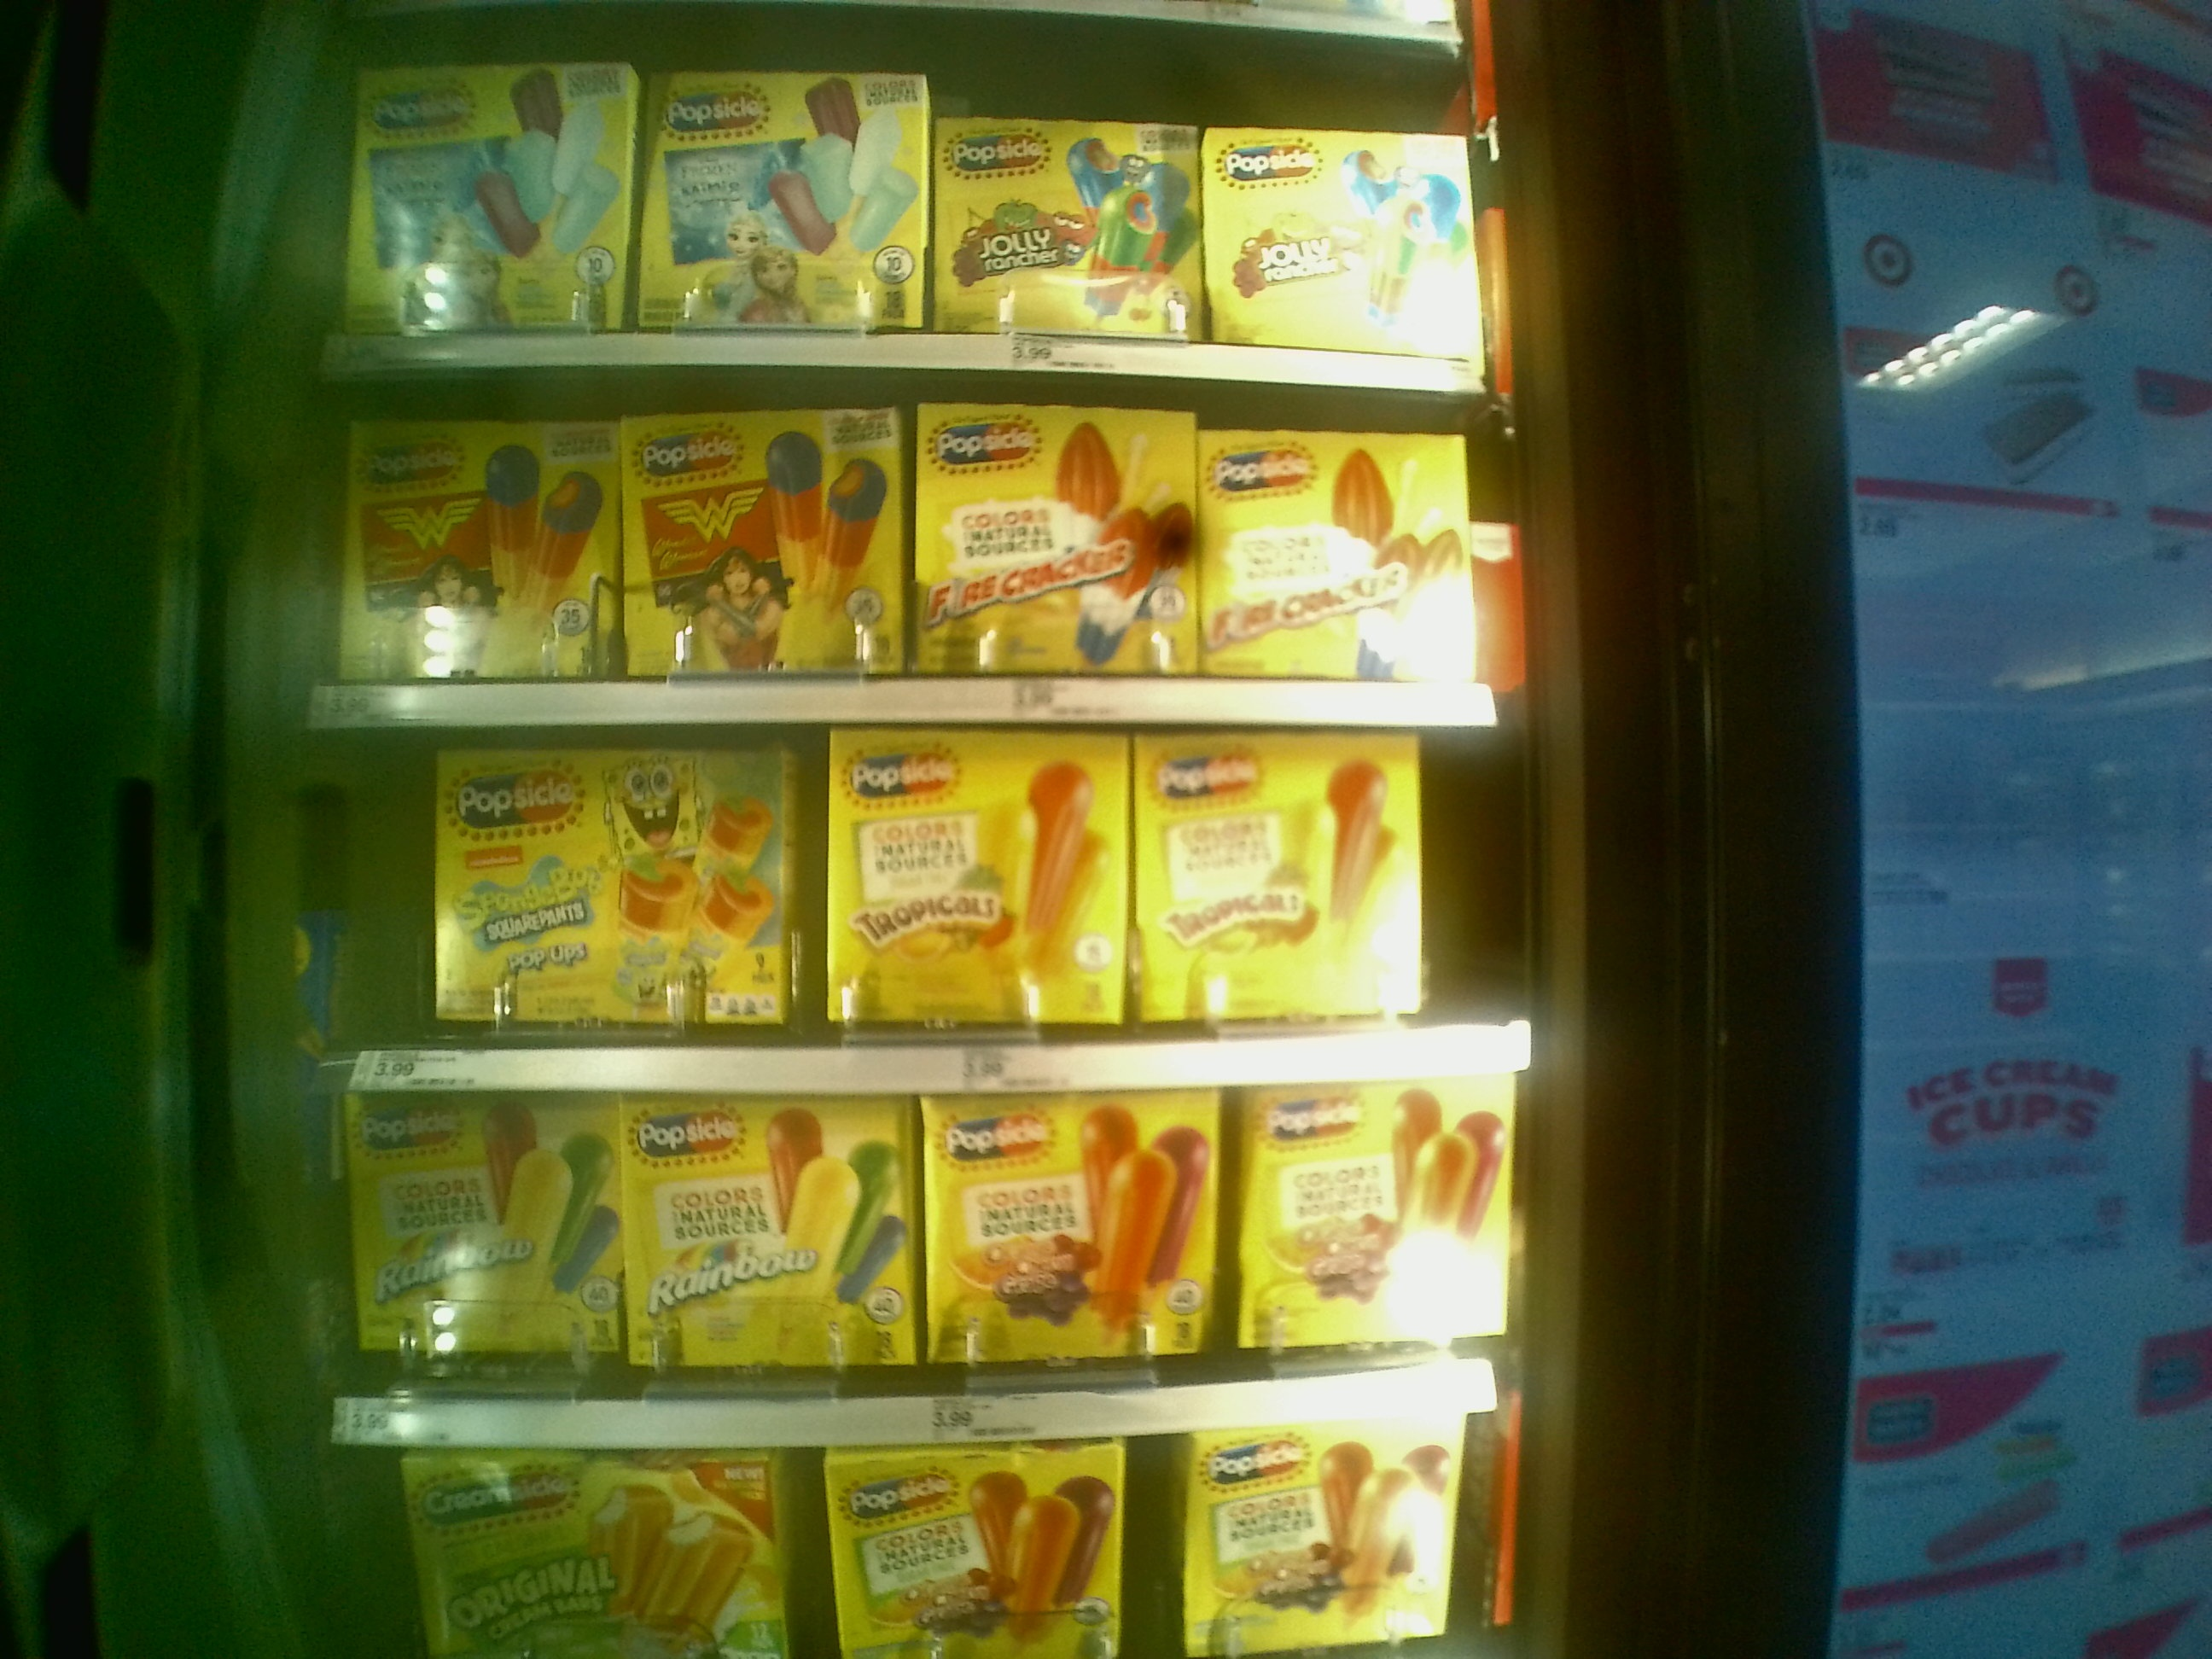shelf: (340, 369, 1508, 723), (324, 721, 1524, 1060), (341, 1073, 1508, 1413)
